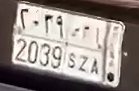0: (28, 19, 40, 64)
2: (15, 8, 30, 63)
3: (40, 12, 53, 67)
9: (52, 15, 64, 69)
A: (90, 26, 102, 75)
S: (68, 27, 81, 69)
Z: (79, 25, 91, 72)
